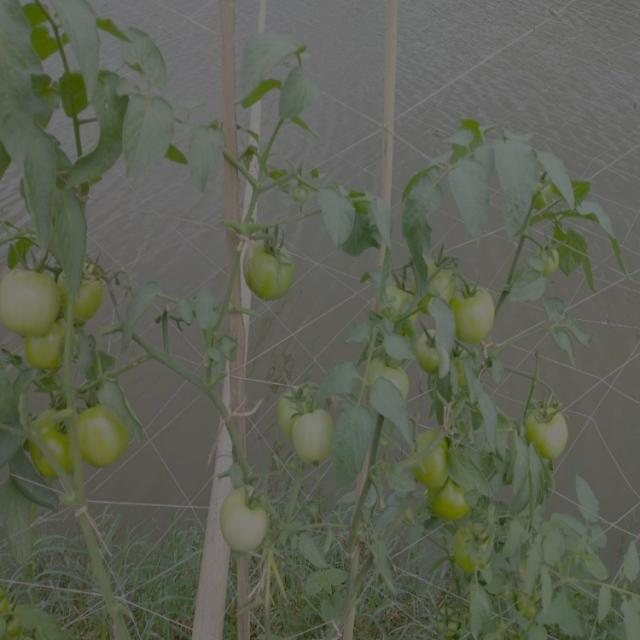tomato: (1, 264, 62, 339), (240, 234, 298, 305), (24, 407, 85, 473), (221, 485, 274, 551), (80, 395, 129, 466), (408, 426, 459, 487), (451, 287, 503, 346), (528, 402, 571, 462), (291, 404, 335, 461), (366, 352, 410, 406), (449, 522, 494, 573), (422, 256, 461, 307), (377, 274, 417, 320), (74, 272, 108, 326), (271, 385, 310, 430), (32, 329, 71, 371), (433, 479, 469, 518), (418, 328, 446, 374), (535, 244, 568, 282), (530, 173, 557, 212), (518, 588, 546, 615)
